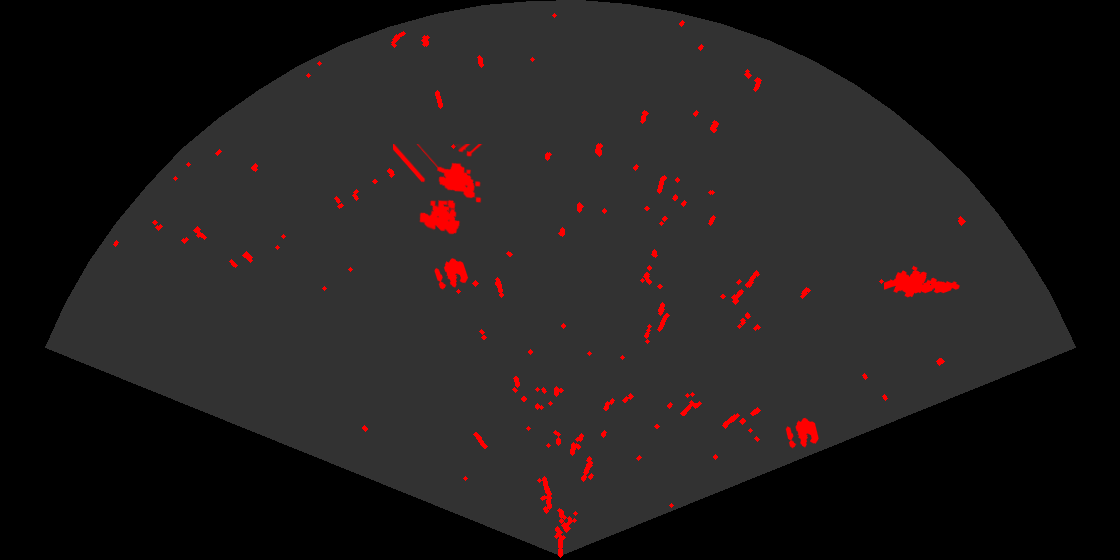ball: (433, 257, 470, 291), (784, 416, 820, 450)
cage: (393, 144, 484, 236)
frogman: (884, 264, 961, 299)
